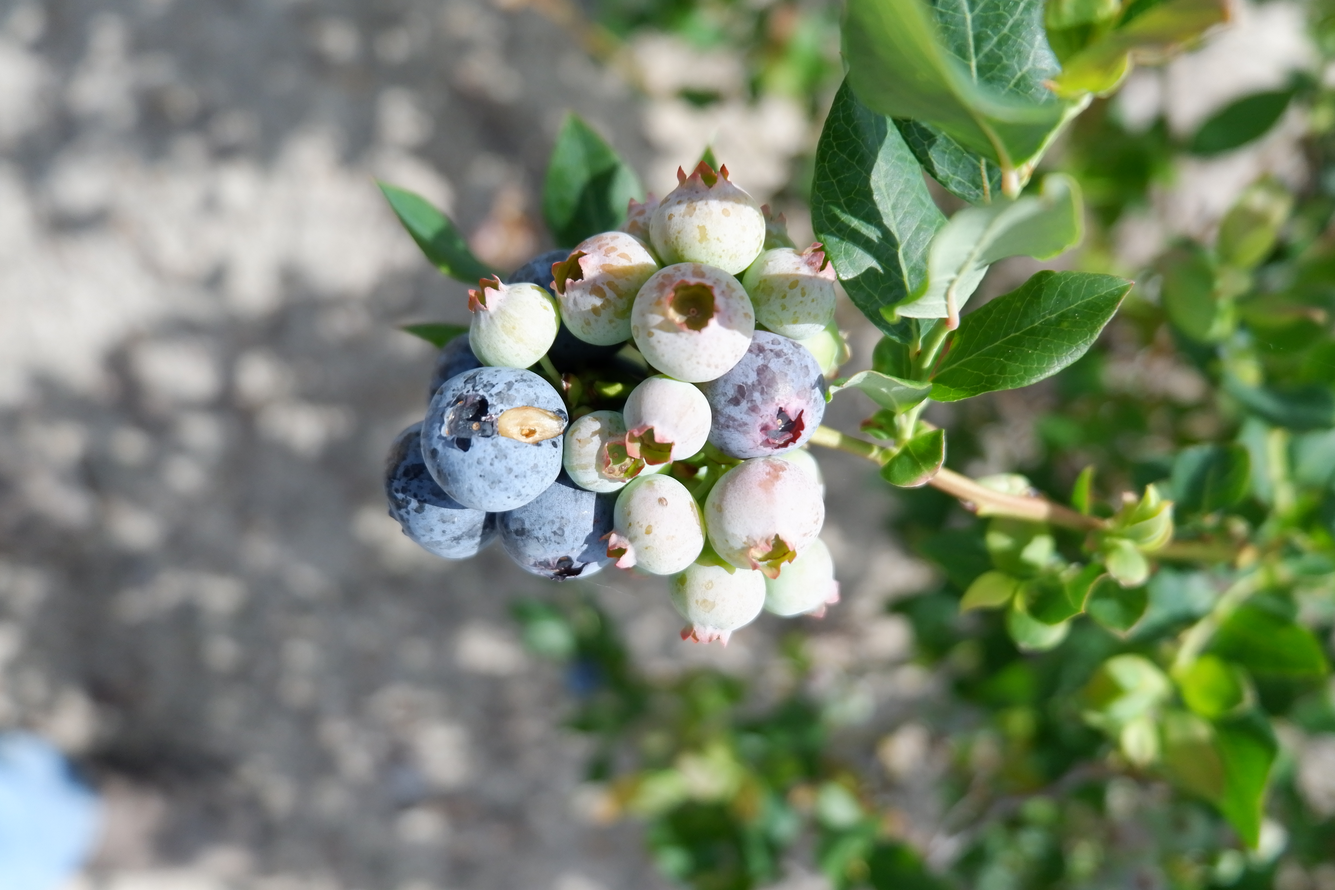Immature: (633, 266, 751, 379), (652, 161, 761, 269), (708, 458, 817, 566), (557, 235, 655, 342), (672, 543, 763, 638), (615, 477, 702, 573), (747, 245, 835, 336), (469, 279, 556, 365), (624, 378, 708, 464), (566, 414, 641, 490), (762, 541, 838, 615), (793, 316, 852, 381), (627, 195, 661, 263), (756, 205, 797, 261)
Mature: (425, 367, 565, 509), (706, 333, 825, 456), (386, 424, 492, 557), (499, 475, 614, 579), (431, 335, 480, 396), (512, 249, 574, 291)
